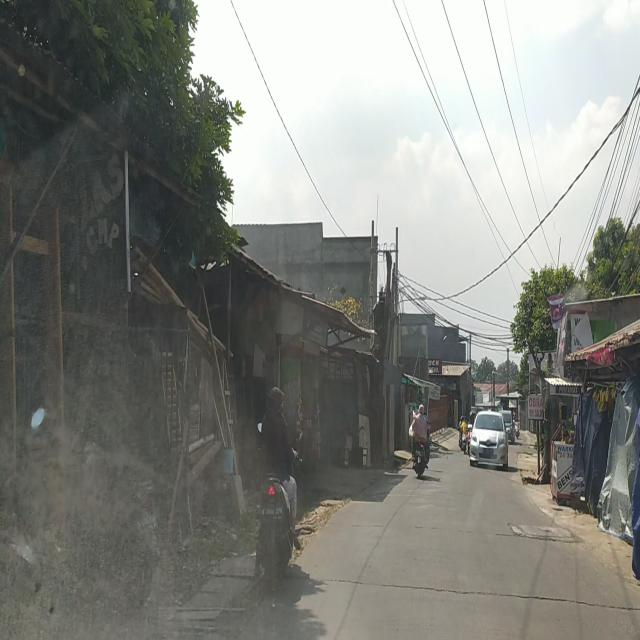Sewer Cover: (313, 575, 640, 616)
